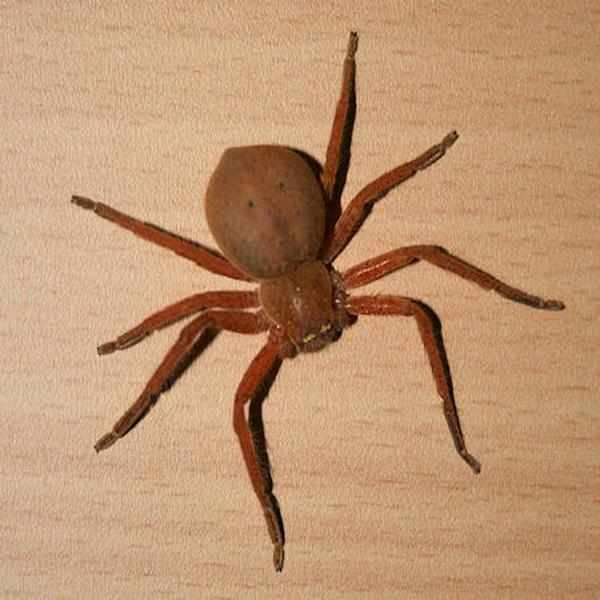Huntsman Spider: (78, 36, 541, 543)
